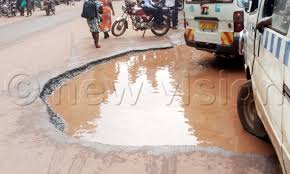pothole: (49, 47, 185, 147)
